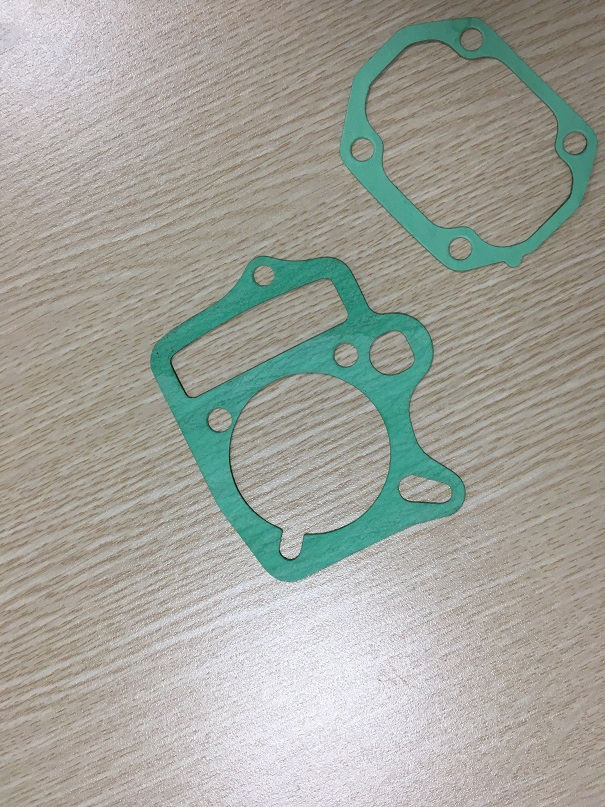type2: (338, 11, 599, 274)
type4: (138, 248, 476, 594)
